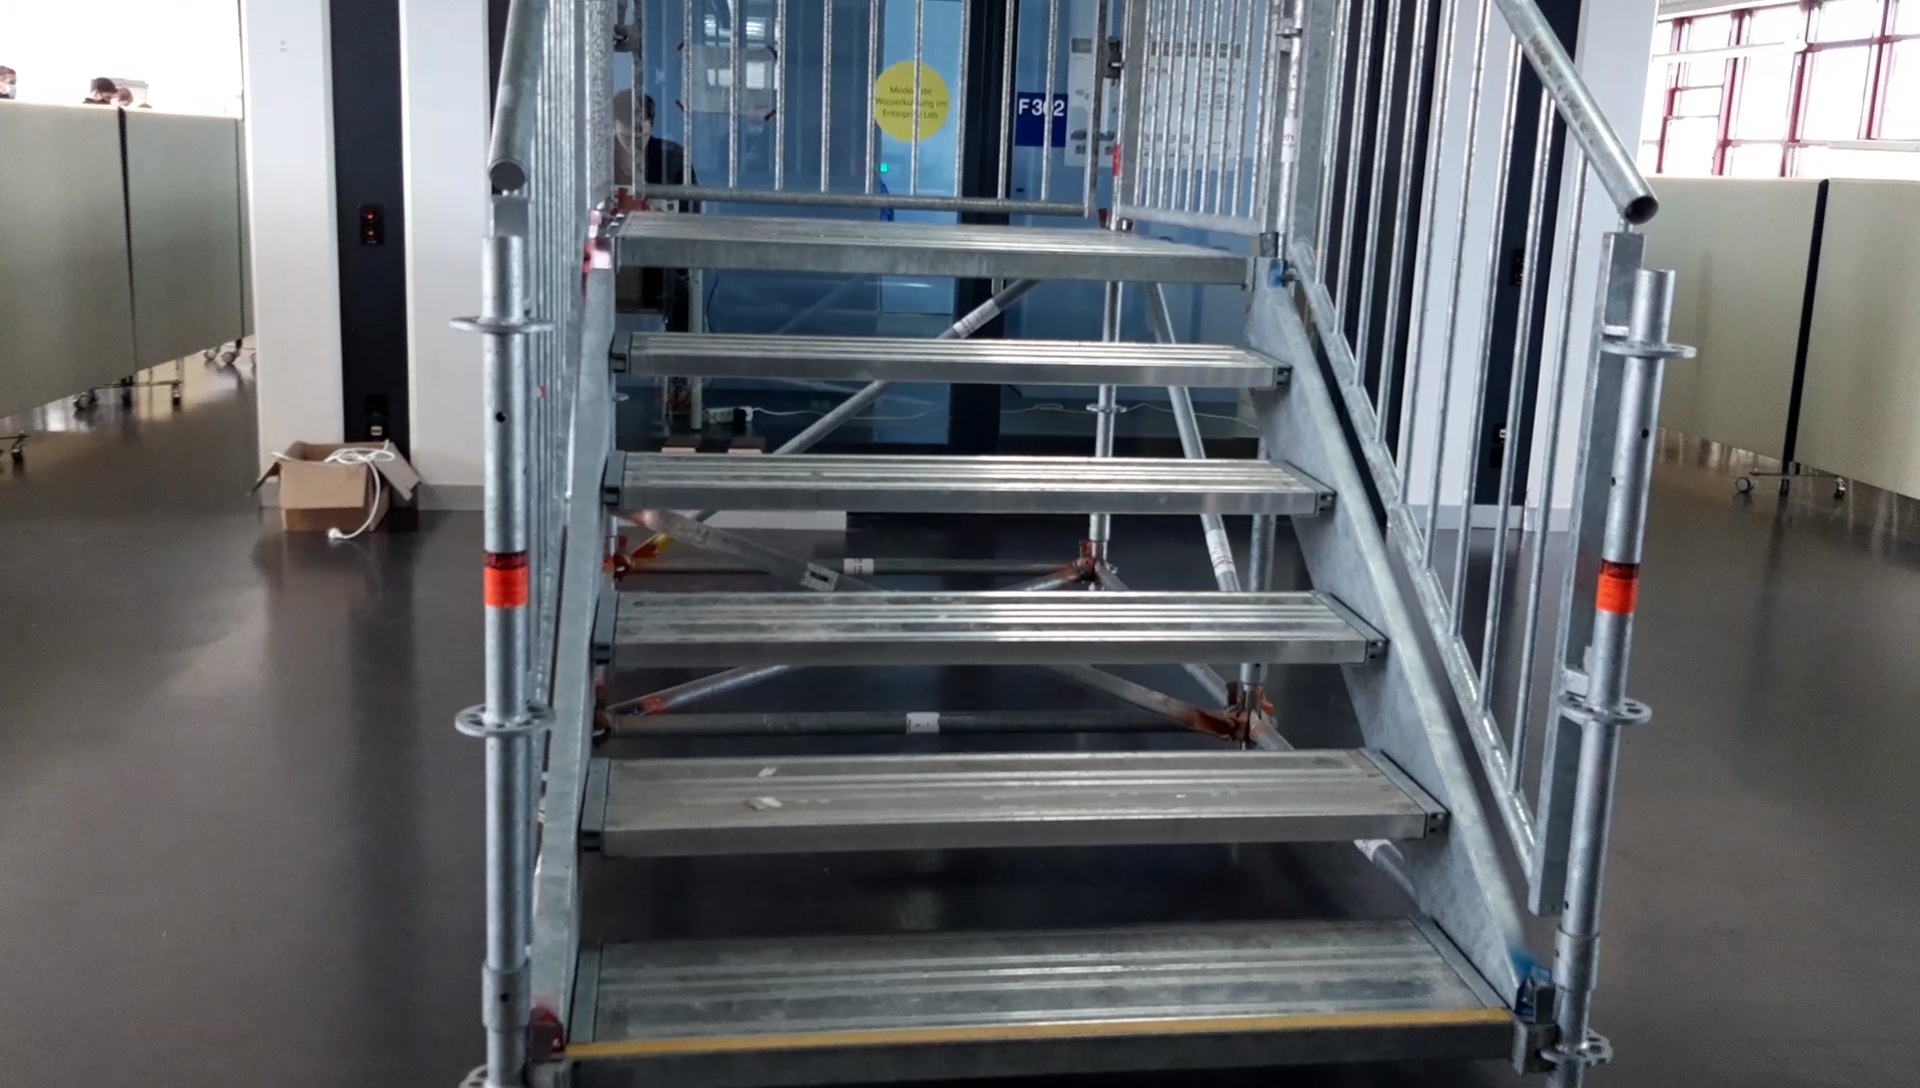edge: (575, 1015, 1509, 1083), (575, 810, 1449, 853), (615, 232, 1251, 284), (605, 351, 1294, 386), (593, 634, 1389, 663), (597, 485, 1337, 514)
stairs: (448, 5, 1691, 1088)
steps: (570, 223, 1515, 1085)
